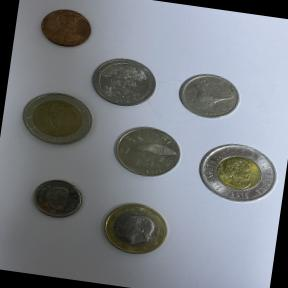coin: (186, 128, 288, 212), (90, 192, 180, 266), (102, 115, 191, 188), (12, 86, 99, 154), (83, 47, 166, 112), (27, 0, 102, 58), (24, 169, 91, 225)
